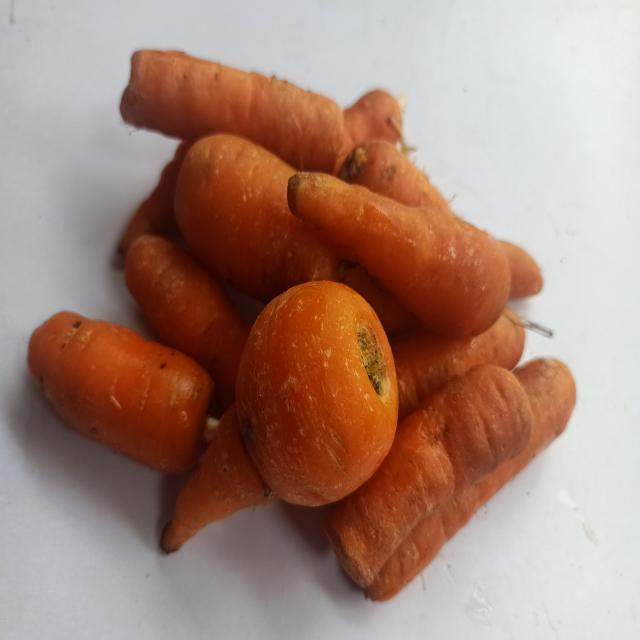Carrot: (326, 364, 532, 588), (288, 171, 512, 337), (27, 311, 213, 472), (119, 49, 344, 172), (124, 234, 250, 408)
